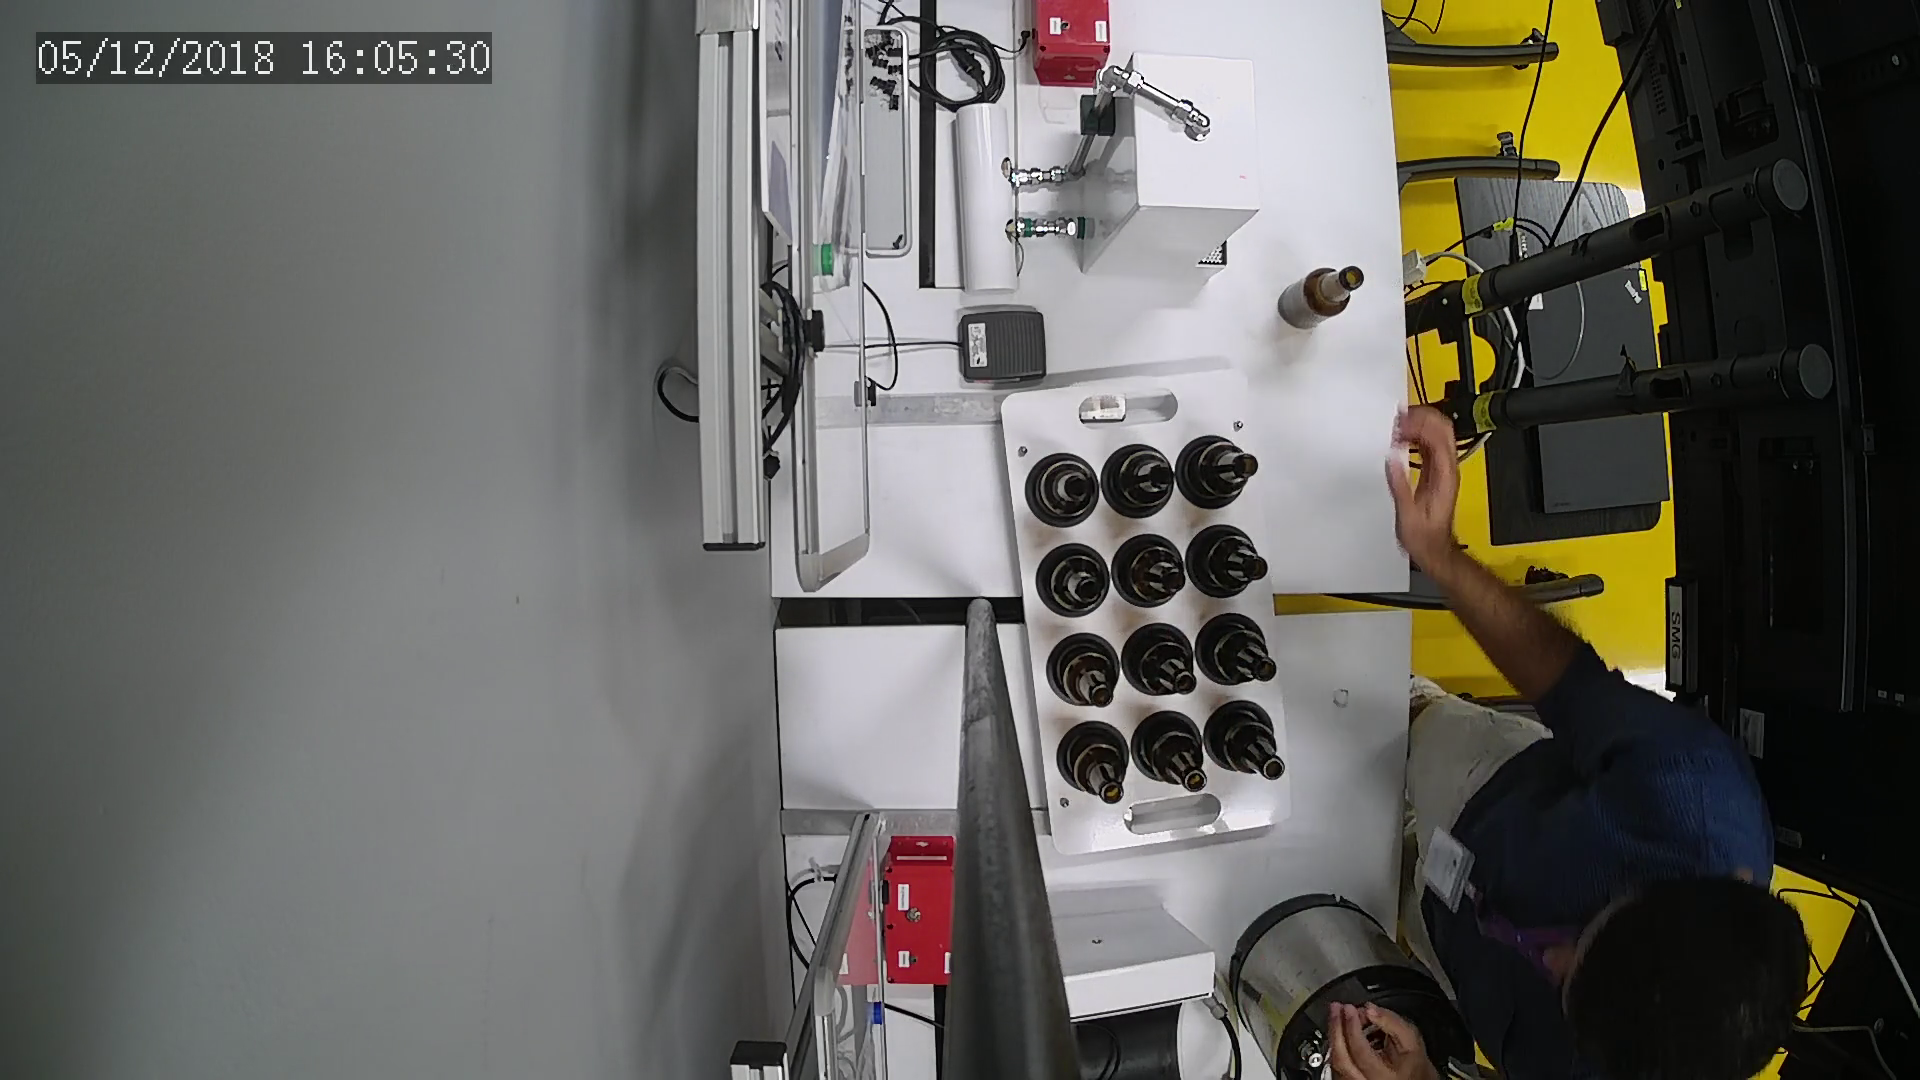filled_bottle: (1124, 707, 1211, 804), (1208, 699, 1294, 793), (1172, 433, 1265, 516), (1199, 611, 1294, 691), (1187, 526, 1279, 605), (1058, 717, 1133, 814), (1039, 628, 1124, 713), (1102, 436, 1179, 530), (1122, 622, 1201, 707), (1033, 538, 1114, 618), (1022, 451, 1102, 530), (1114, 530, 1187, 607)
trolley: (997, 365, 1299, 857)
unfilled_bottle: (1270, 261, 1375, 342)
